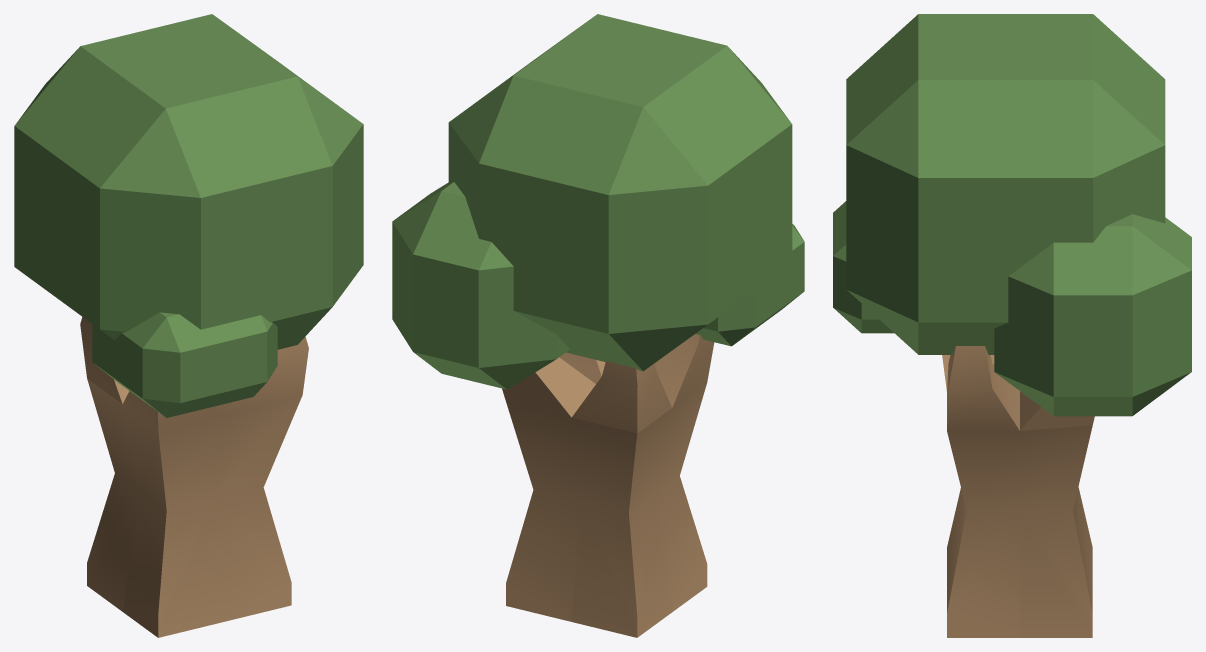
The model's file is bush.fbx.
3 views of the same model, side by side, from view 1: azimuth 30°, elevation 25°; view 2: azimuth 150°, elevation 25°; view 3: azimuth 270°, elevation 25° (orthographic). The views are drawn at different scales.
Parts seen in each view (by area): view 1: pCube3, pCube1, pCube4; view 2: pCube3, pCube1, pCube2, pCube4; view 3: pCube3, pCube1, pCube2, pCube4.
Part boxes in pixels (box(x1,y1,x2,y2)): pCube3: box(14, 14, 363, 349); pCube1: box(80, 317, 308, 637); pCube4: box(92, 312, 277, 417); pCube3: box(448, 14, 792, 371); pCube1: box(502, 334, 714, 637); pCube2: box(392, 182, 569, 389); pCube4: box(695, 224, 804, 346); pCube3: box(846, 14, 1165, 354); pCube1: box(942, 346, 1094, 637); pCube2: box(994, 214, 1191, 416); pCube4: box(833, 201, 893, 333).
Size of the model in its own units: 0.8455 by 1.45 by 0.8497.
